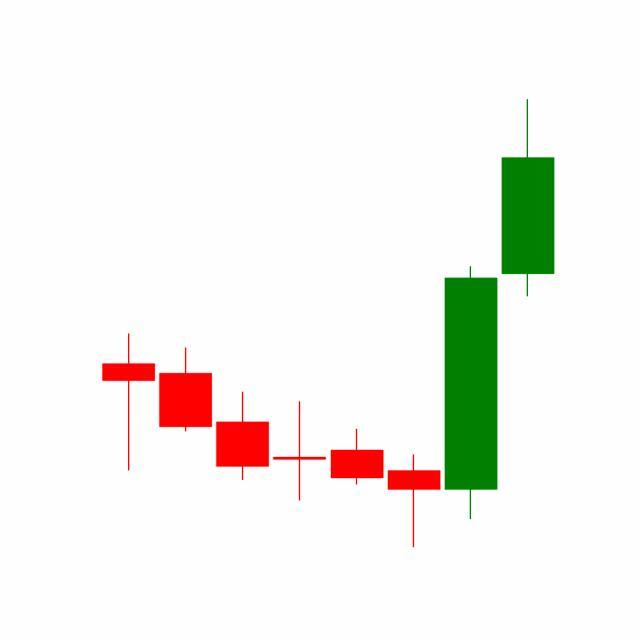Hikkake Pattern: (214, 262, 501, 548)
